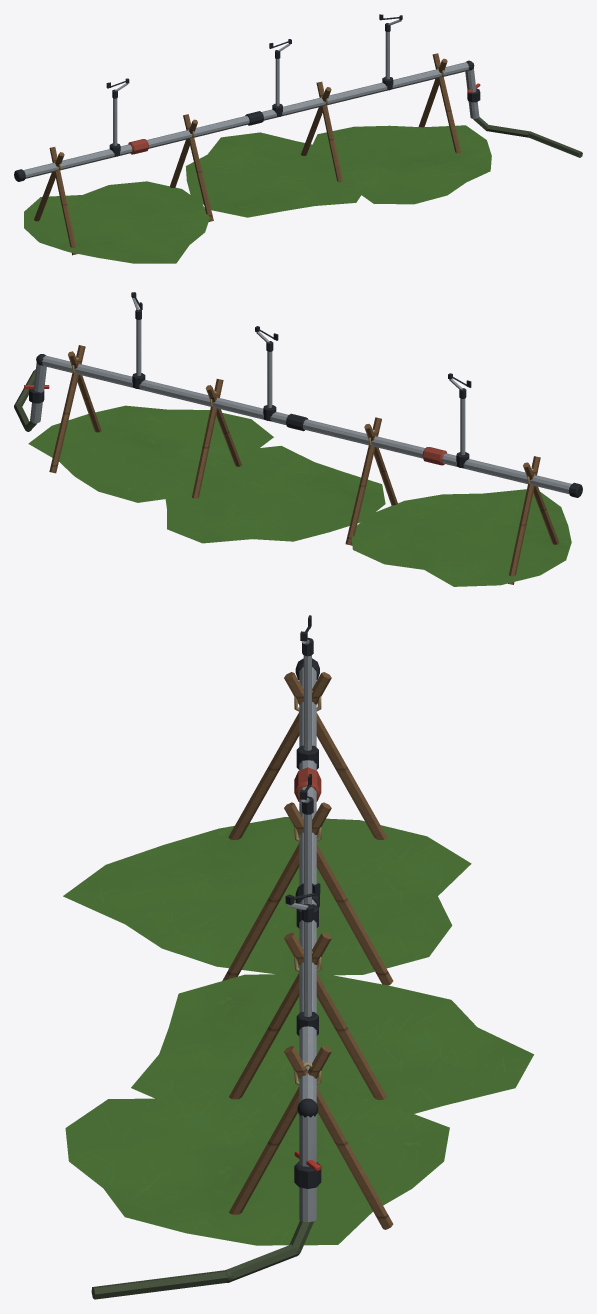
File: sprinkler_pipe.glb
The picture shows the model from 3 angles, top to bottom: view 1: azimuth 30°, elevation 25°; view 2: azimuth 150°, elevation 25°; view 3: azimuth 270°, elevation 25°; orthographic projection. The views are drawn at different scales.
Visible parts, largest first — view 1: sprinkler_pipe; view 2: sprinkler_pipe; view 3: sprinkler_pipe.
Part boxes in pixels (x1,y1,x2,y2): sprinkler_pipe: [14, 14, 582, 263]; sprinkler_pipe: [14, 292, 582, 586]; sprinkler_pipe: [63, 615, 533, 1299].
Bounding box in the file's own units: 4.42 × 1.19 × 1.76.
Materials: 9 (9 with a texture image).
